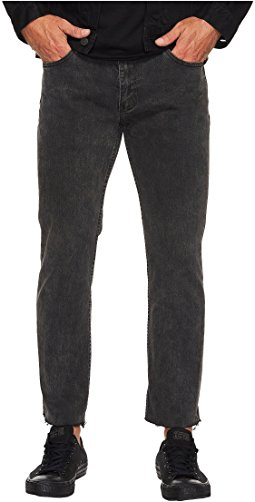Jeans: (18, 45, 217, 442)
